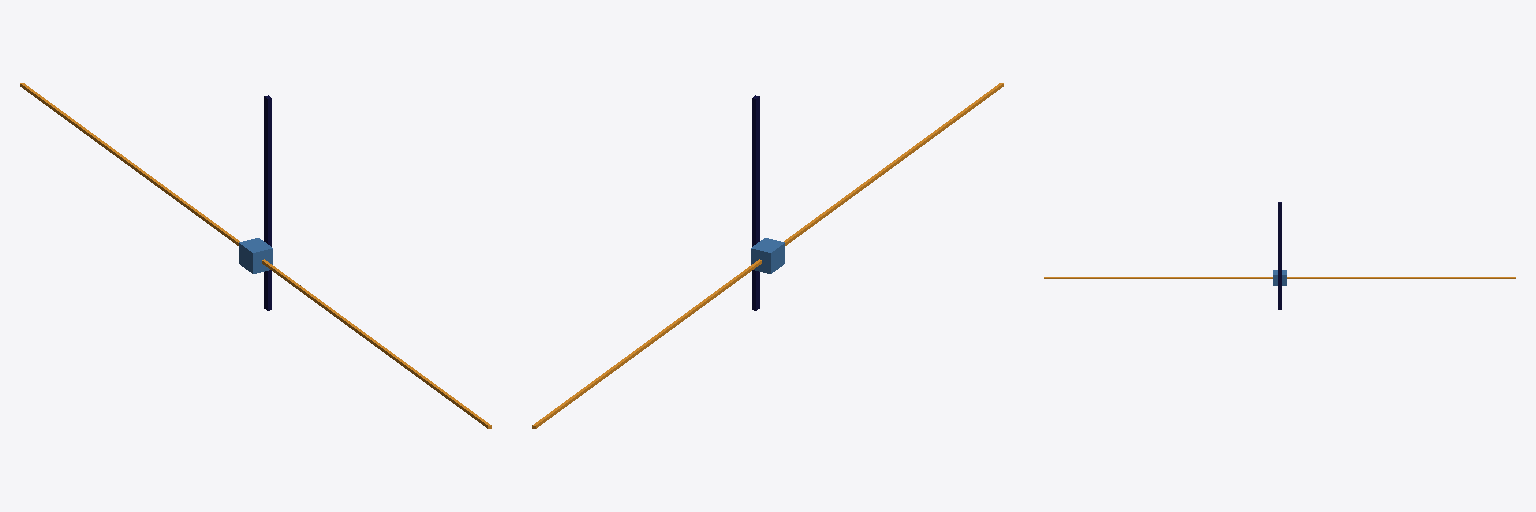
URDF robot description (cartpole):
<?xml version="1.0"?>
<robot name="cartpole">

    <link name="slider">
    <visual>
      <geometry>
        <box size="0.03 8 0.03"/>
      </geometry>
      <material name="slider_mat">
        <color rgba="0.9 0.6 0.2 1"/>
      </material>
    </visual>
    <collision>
      <geometry>
        <box size="0.03 8 0.03"/>
      </geometry>
    </collision>
  </link>

  <link name="cart">
    <visual>
      <geometry>
        <box size="0.2 0.25 0.2"/>
      </geometry>
      <material name="cart_mat">
        <color rgba="0.3 0.5 0.7 1"/>
      </material>
    </visual>
    <collision>
      <geometry>
          <box size="0.2 0.25 0.2"/>
      </geometry>
    </collision>
    <inertial>
      <mass value="1"/>
    </inertial>
  </link>

  <link name="pole">
    <visual>
      <geometry>
        <box size="0.04 0.06 2.0"/>	
      </geometry>
      <origin xyz="0 0 0.47"/>
      <material name="pole_mat">
        <color rgba="0.1 0.1 0.3 1"/>
      </material>
    </visual>
    <collision>
      <geometry>
        <box size="0.04 0.06 2.0"/>	
      </geometry>
      <origin xyz="0 0 0.47"/>
    </collision>
    <inertial>
      <mass value="20"/>
      <origin xyz="0 0 0.47"/>
    </inertial>
  </link>

  <joint name="slider_to_cart" type="prismatic">
    <axis xyz="0 1 0"/>
    <origin xyz="0 0 0"/>
    <parent link="slider"/>
    <child link="cart"/>
    <limit effort="1000.0" lower="-4" upper="4" velocity="100"/>
  </joint>

  <joint name="cart_to_pole" type="continuous">
    <axis xyz="1 0 0"/>
    <origin xyz="0.12 0 0"/>
    <parent link="cart"/>
    <child link="pole"/>
    <limit effort="1000.0" velocity="8"/>
  </joint>
  
</robot>

--- Facts derived from the render (not from the file) ---
Views: 3 orthographic renders of the robot side by side, from view 1: azimuth 30°, elevation 25°; view 2: azimuth 150°, elevation 25°; view 3: azimuth 270°, elevation 25°.
Robot: cartpole — 3 links, 2 joints (1 continuous, 1 prismatic); root link slider; default pose: every joint at zero.
Visible links, largest first — view 1: slider, pole, cart; view 2: slider, pole, cart; view 3: slider.
Boxes of the visible links, x1=… form: slider: x1=20, y1=83, x2=491, y2=428; pole: x1=264, y1=95, x2=271, y2=310; cart: x1=239, y1=238, x2=272, y2=273; slider: x1=532, y1=83, x2=1003, y2=428; pole: x1=752, y1=95, x2=759, y2=310; cart: x1=751, y1=238, x2=784, y2=273; slider: x1=1044, y1=277, x2=1515, y2=278.
Size in the robot's own frame: 0.24 by 8 by 2 metres.
Geometry: primitives only (box / cylinder / sphere), no mesh files.
